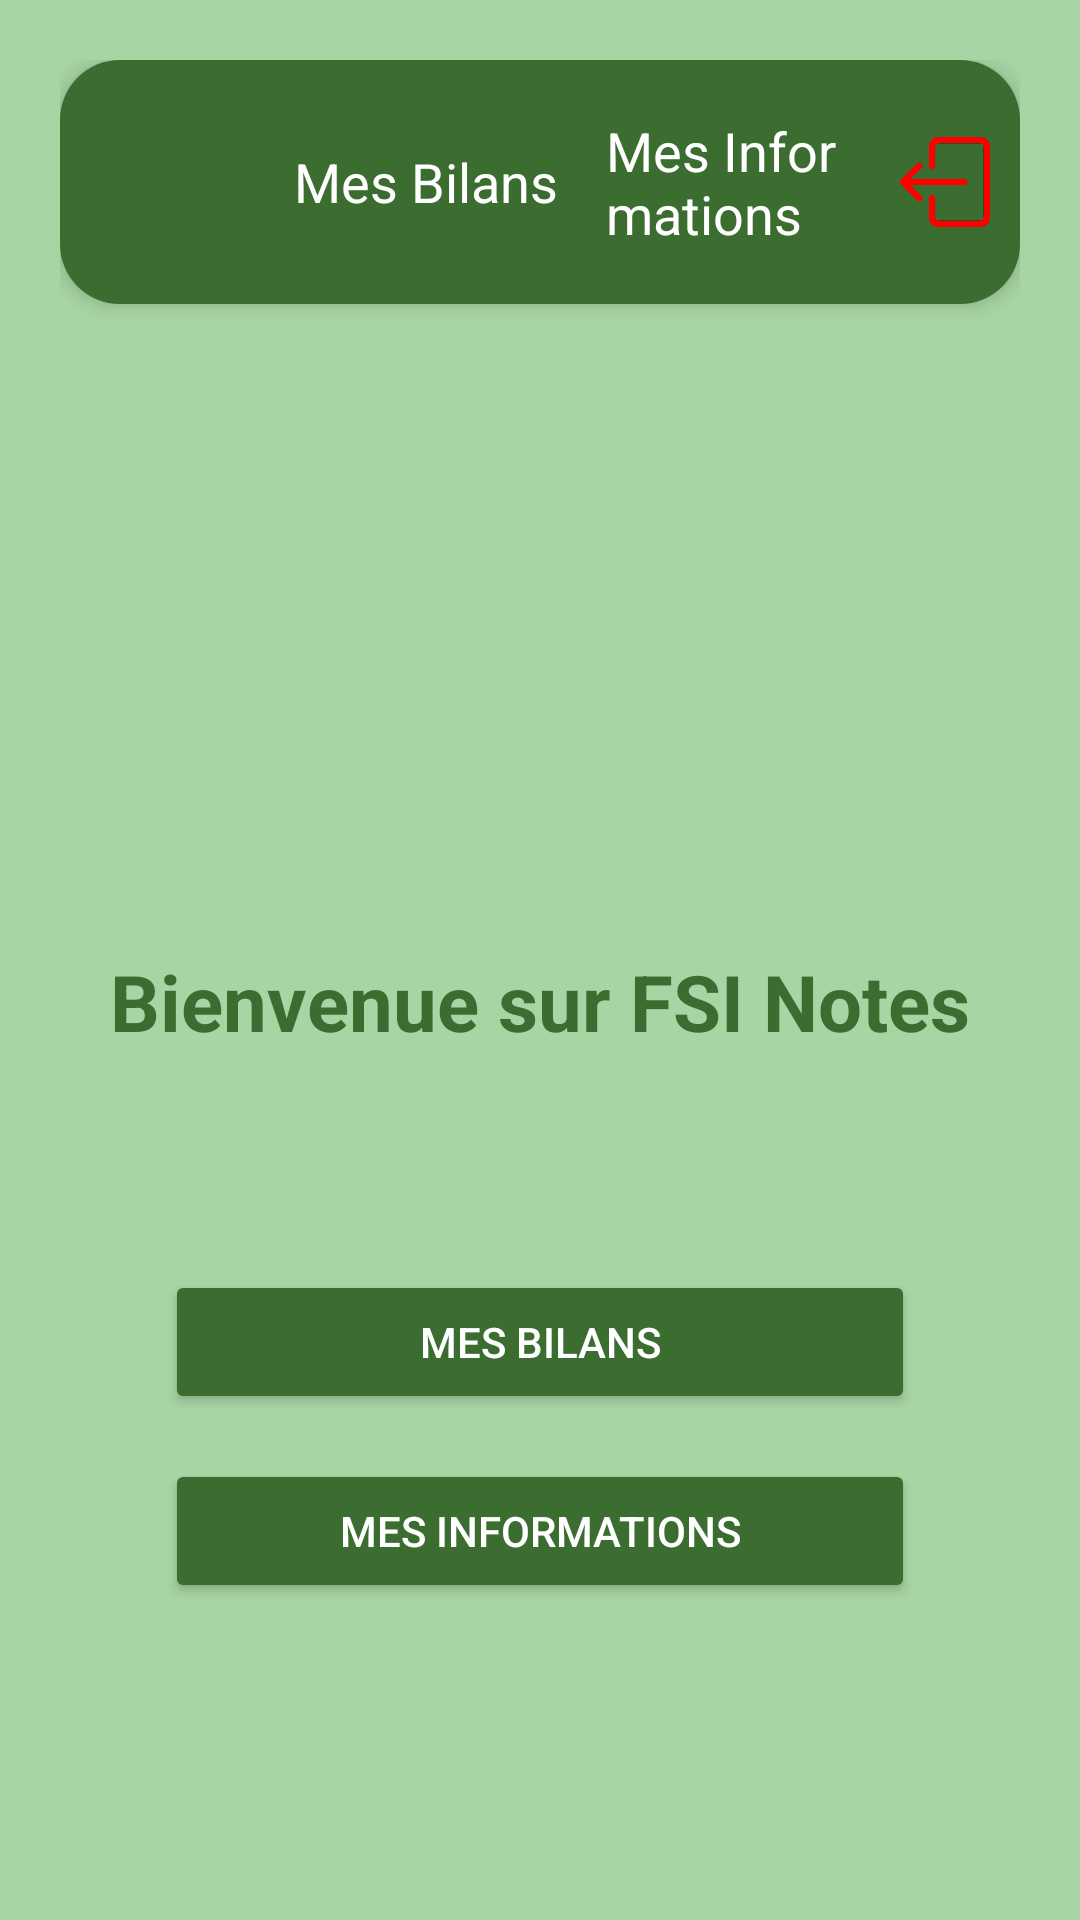

Point at icon controls on the screen. Image size 1080x1920, points as (x,y).
deco: (945,182)
